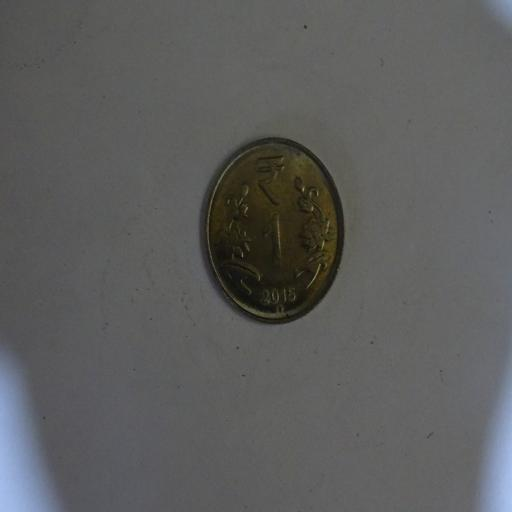rupee1: (203, 138, 343, 324)
